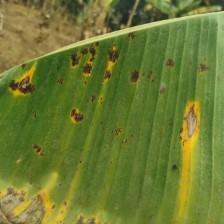pestalotiopsis: (0, 12, 224, 224)
